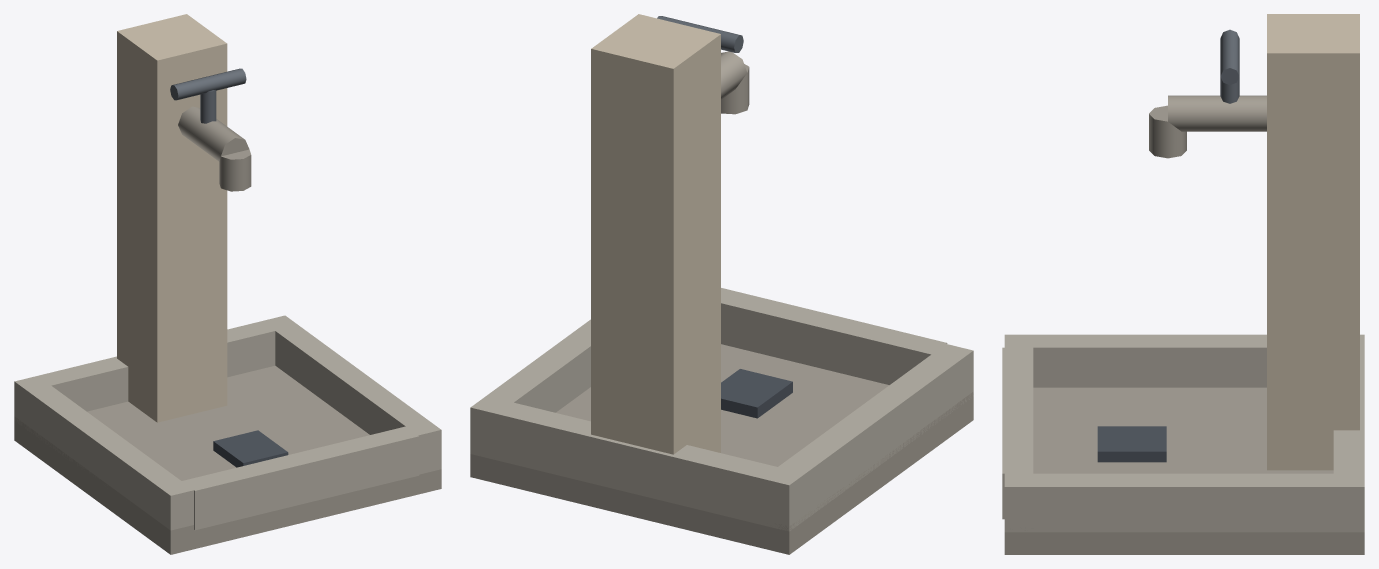
File: komachi-garden-tap.glb
3 renders of one model, left to right at view 1: azimuth 30°, elevation 25°; view 2: azimuth 150°, elevation 25°; view 3: azimuth 270°, elevation 25°, orthographic. The views are drawn at different scales.
Visible parts, largest first — view 1: Garden_Tap; view 2: Garden_Tap; view 3: Garden_Tap.
Boxes of the visible parts, bbox=[...] form: Garden_Tap: bbox=[14, 14, 441, 554]; Garden_Tap: bbox=[470, 14, 973, 554]; Garden_Tap: bbox=[1002, 14, 1364, 554].
Size of the model in its own units: 0.151 by 0.206 by 0.152.
